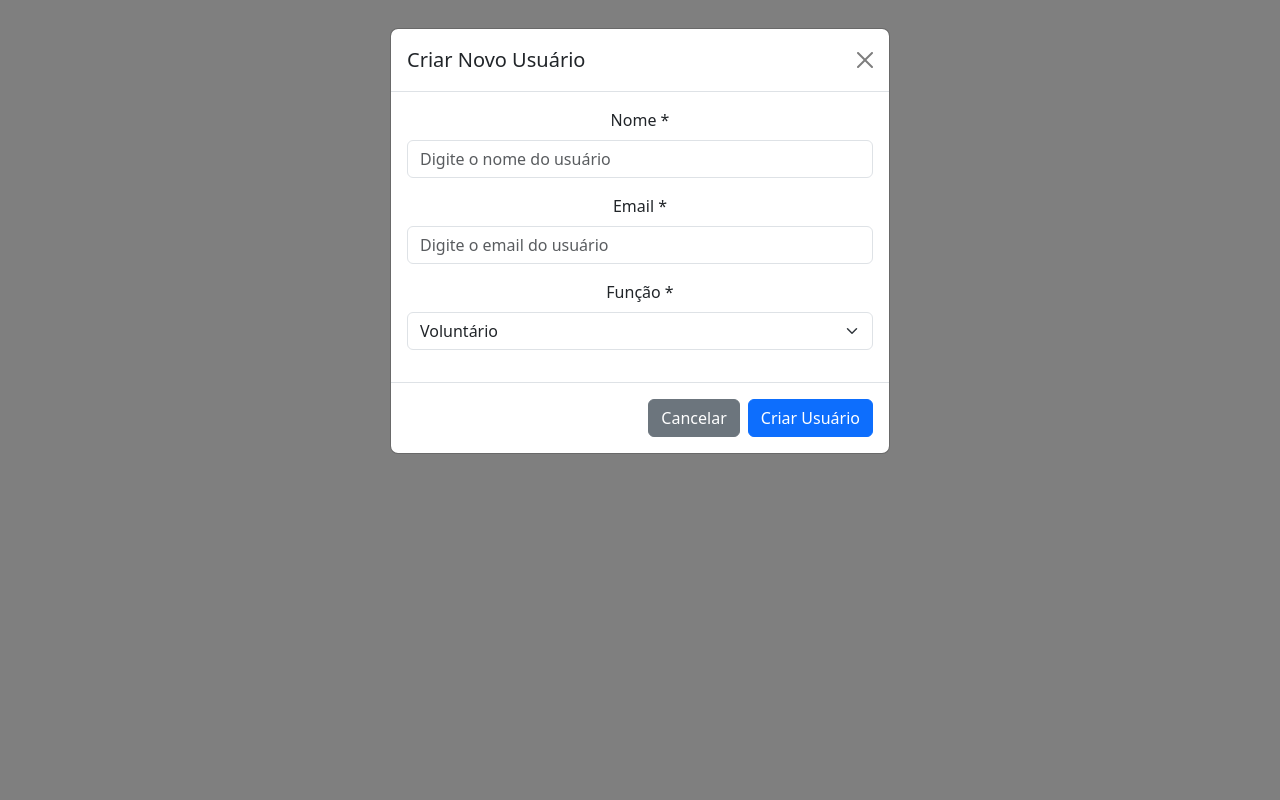
it: UserFormModal › Form validation › should show email error when email is empty
The image size is (1280, 800).
Type "João Silva" into the field with test id "name-input" at (640, 159), box [407,140,873,178]
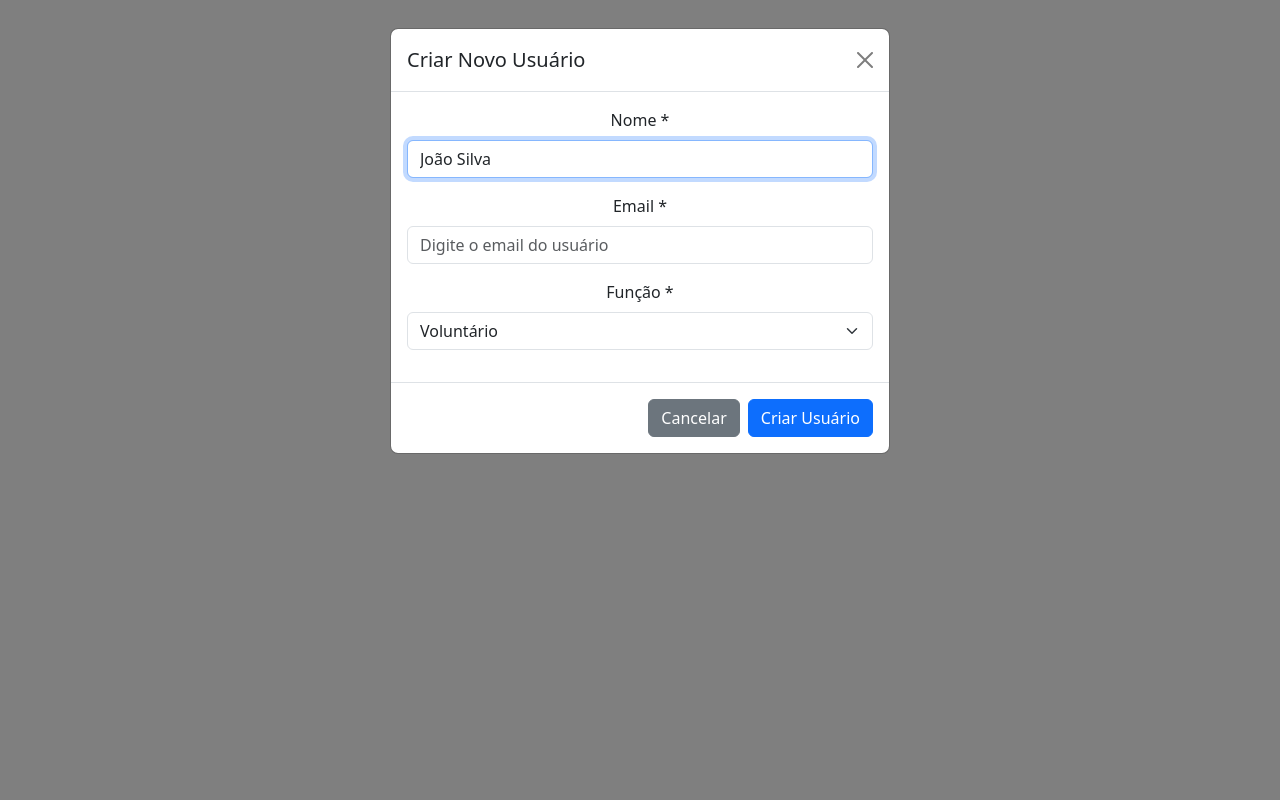
Click the button with test id "modal-submit-button" at (810, 418), box [748,399,873,437]
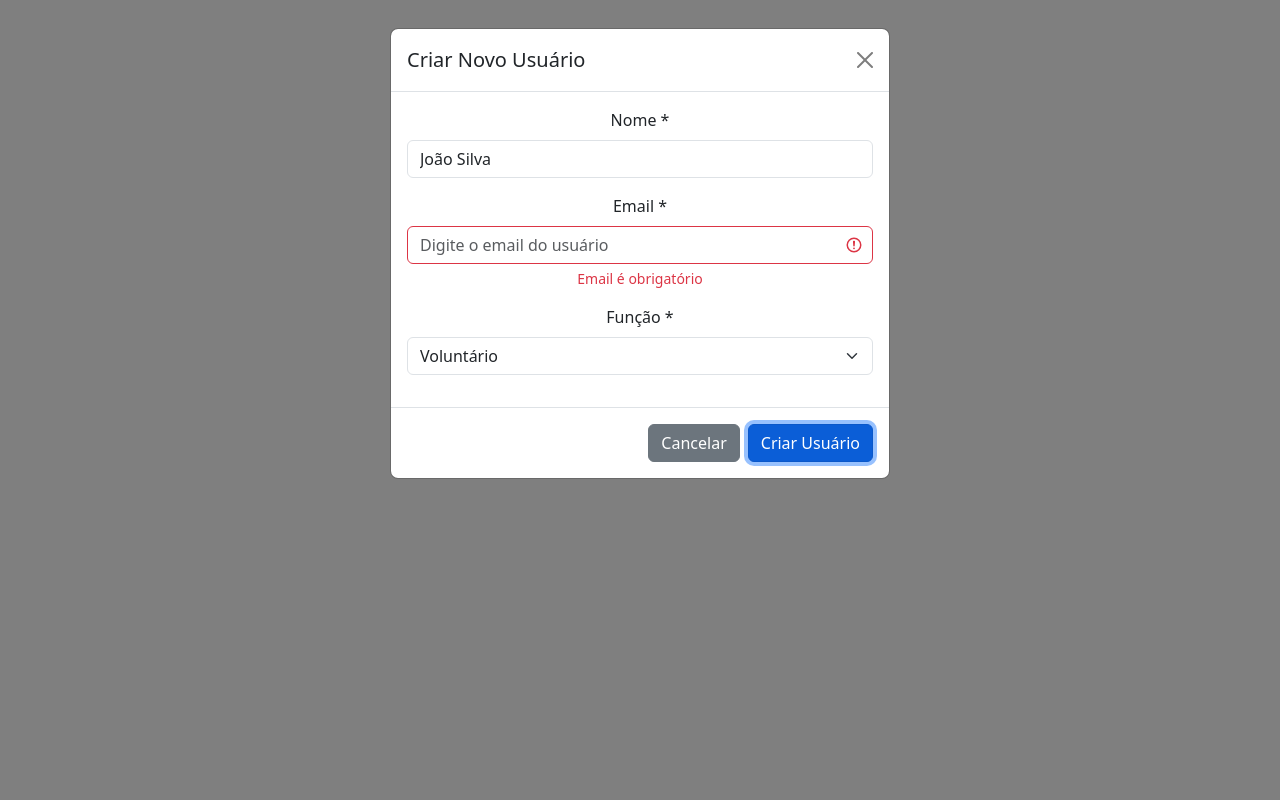
expect the text with test id "email-error" reads "Email é obrigatório": met, box [577,269,703,288]
